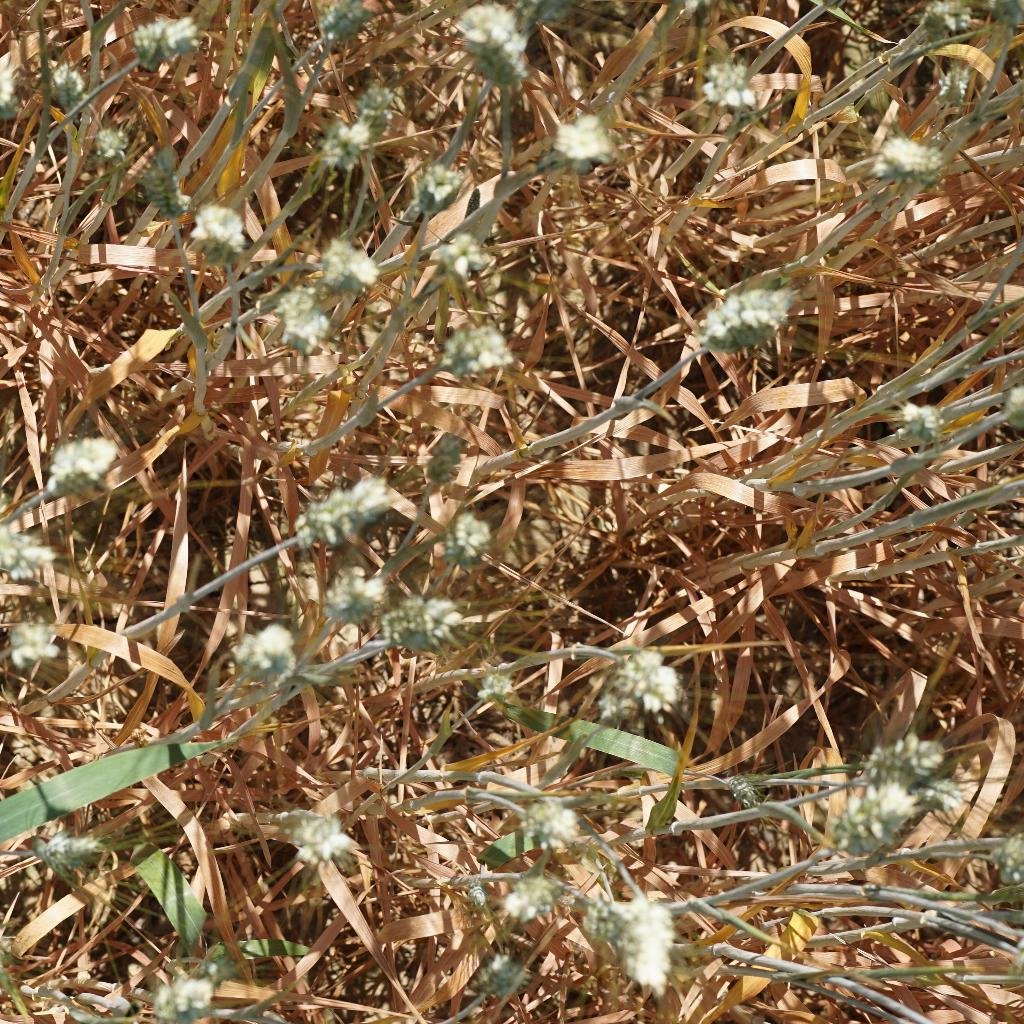0-0: (279, 458, 393, 561), (452, 0, 541, 94), (615, 890, 687, 1000), (45, 423, 126, 516), (702, 283, 798, 357), (613, 642, 697, 724), (381, 591, 471, 666), (840, 770, 916, 858), (537, 97, 619, 178), (225, 619, 317, 691), (18, 829, 120, 893), (318, 560, 400, 639), (266, 792, 358, 862), (187, 194, 260, 280), (418, 313, 514, 378), (858, 722, 953, 787), (122, 144, 195, 227), (400, 154, 481, 224), (415, 425, 488, 501), (271, 276, 332, 366), (124, 7, 203, 75), (507, 793, 590, 855), (687, 51, 755, 123), (311, 236, 388, 299), (316, 103, 381, 172), (426, 230, 499, 291), (867, 130, 942, 187), (142, 967, 213, 1024), (441, 500, 497, 570), (48, 49, 103, 114), (468, 944, 531, 997), (720, 765, 772, 829), (78, 116, 135, 174), (0, 615, 62, 668), (501, 870, 557, 925), (309, 2, 377, 47), (0, 520, 49, 582), (433, 871, 496, 918), (930, 59, 987, 109), (473, 653, 519, 714), (516, 0, 602, 32), (918, 0, 976, 47), (900, 396, 945, 452)
